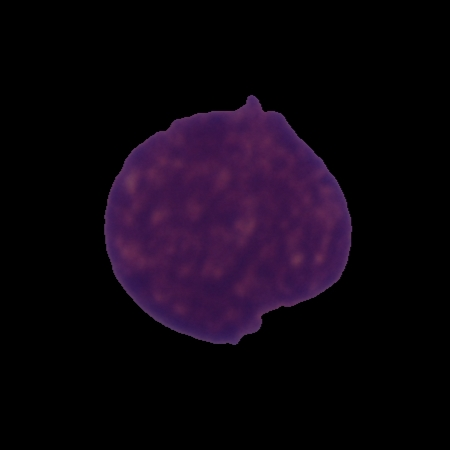ALL: (99, 89, 358, 349)
